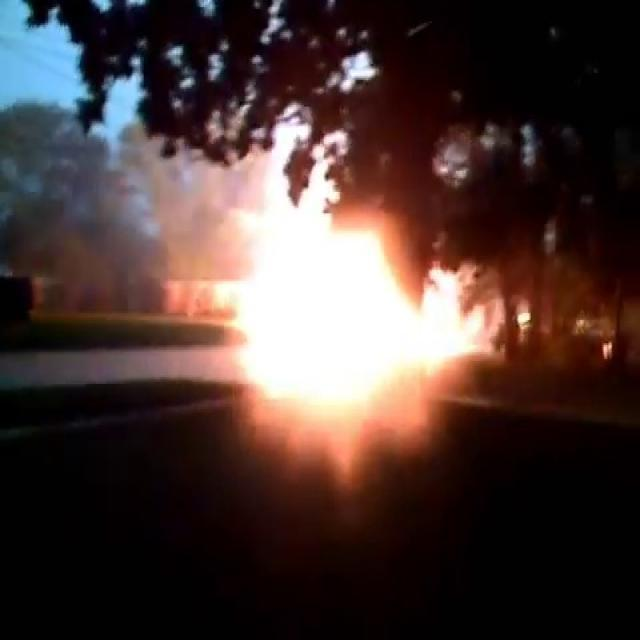Fire: (198, 116, 490, 427)
